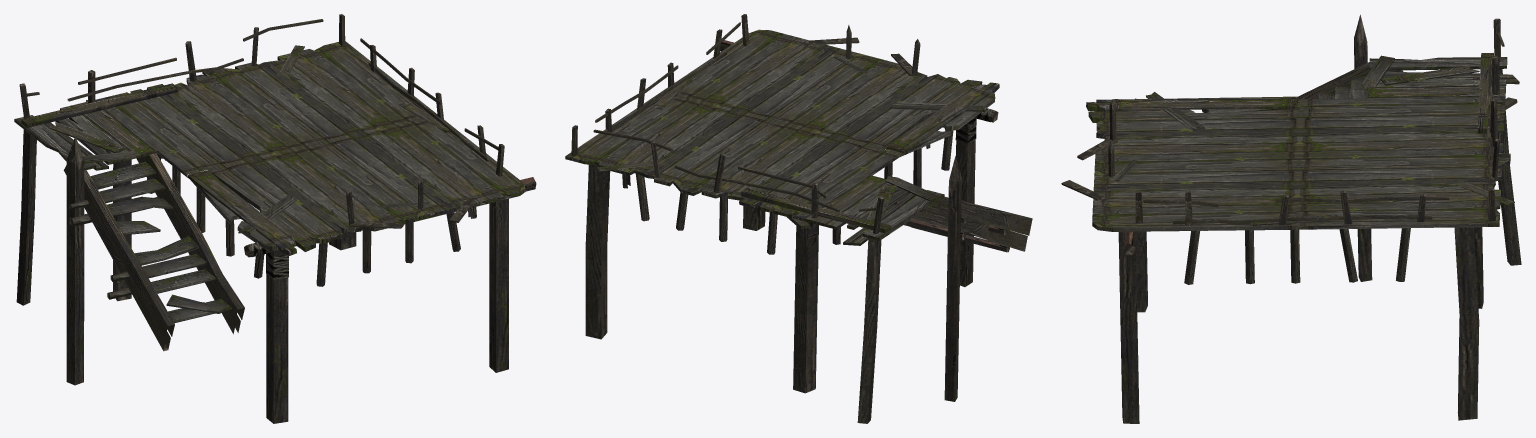
The model's file is 2014_Item_taizi_2.FBX.
3 renders of one model, left to right at view 1: azimuth 30°, elevation 25°; view 2: azimuth 150°, elevation 25°; view 3: azimuth 270°, elevation 25°, orthographic. The views are drawn at different scales.
Visible parts, largest first — view 1: 2014_Item_taizi_2; view 2: 2014_Item_taizi_2; view 3: 2014_Item_taizi_2.
Part boxes in pixels (x1=…): 2014_Item_taizi_2: x1=14, y1=14, x2=536, y2=423; 2014_Item_taizi_2: x1=565, y1=14, x2=1032, y2=423; 2014_Item_taizi_2: x1=1061, y1=14, x2=1521, y2=423.
Size of the model in its own units: 3401 by 2293 by 3566.
